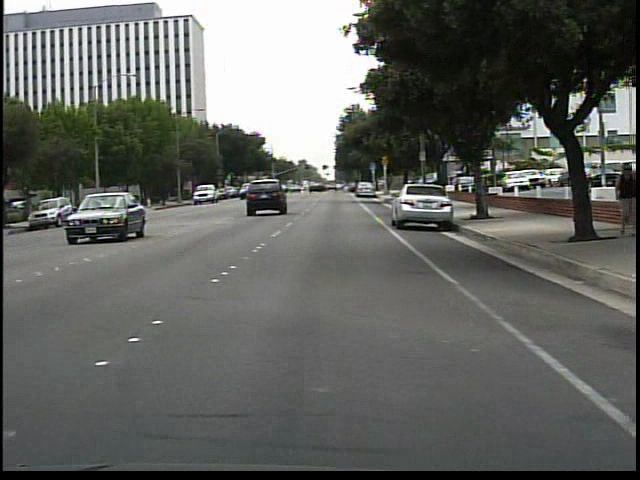person: (606, 158, 633, 240)
